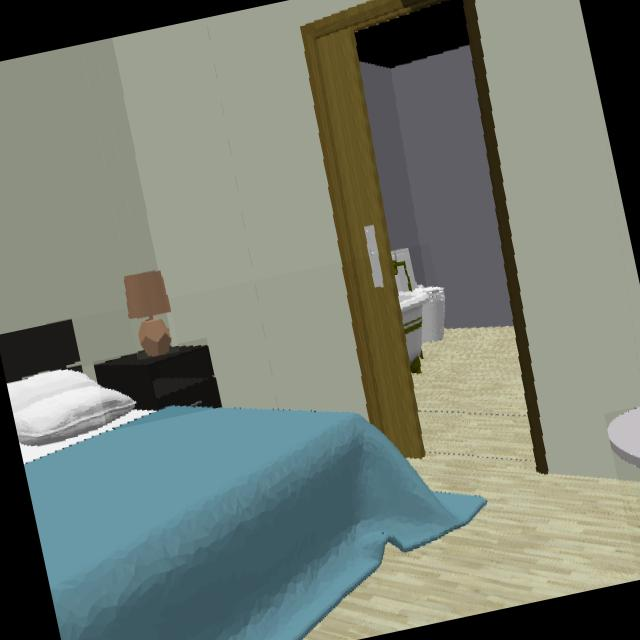bed: (0, 320, 483, 640)
lamp: (125, 271, 171, 357)
nighttable: (95, 346, 220, 410)
pillow: (7, 370, 135, 438)
table: (608, 407, 640, 466)
